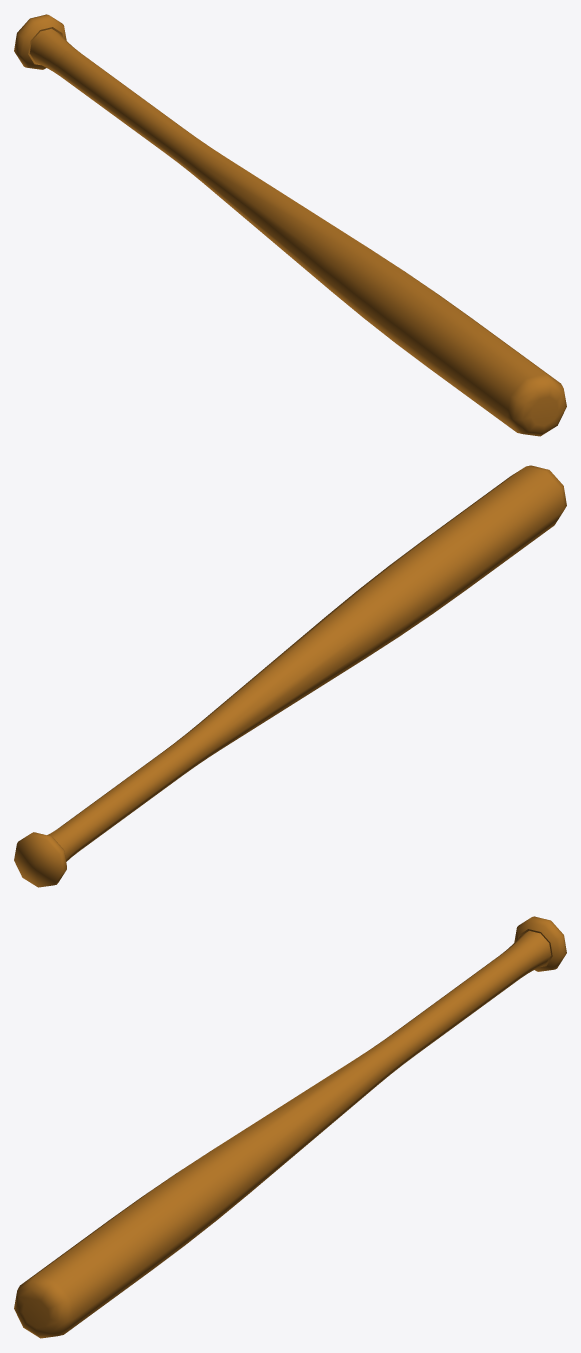
The model's file is Baseball bat.fbx.
3 views of the same model, one above another, from view 1: azimuth 30°, elevation 25°; view 2: azimuth 150°, elevation 25°; view 3: azimuth 330°, elevation 25° (orthographic).
Visible parts, largest first — view 1: baseball bat; view 2: baseball bat; view 3: baseball bat.
Part boxes in pixels (x1,y1,x2,y2): baseball bat: [14, 14, 566, 436]; baseball bat: [14, 465, 566, 887]; baseball bat: [14, 916, 566, 1338].
Size of the model in its own units: 9.18 by 9.04 by 141.
